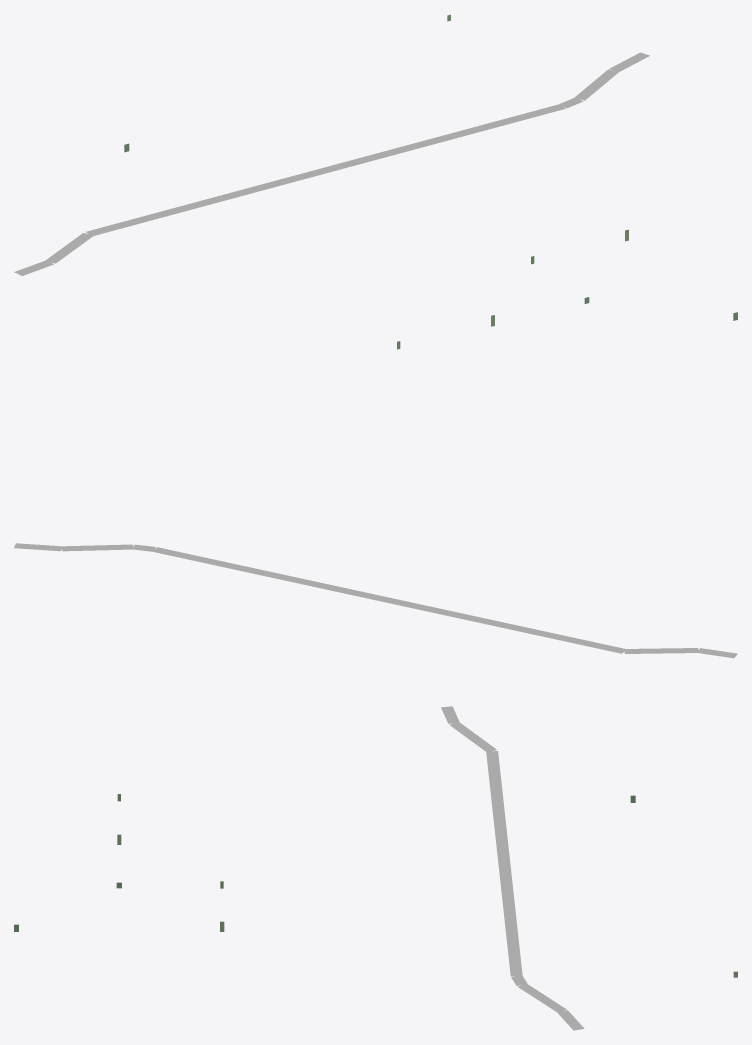
The picture shows the model from 3 angles, top to bottom: view 1: azimuth 30°, elevation 25°; view 2: azimuth 150°, elevation 25°; view 3: azimuth 270°, elevation 25°; orthographic projection. The views are drawn at different scales.
Bounding box in the file's own units: 446 × 8.21 × 423.
